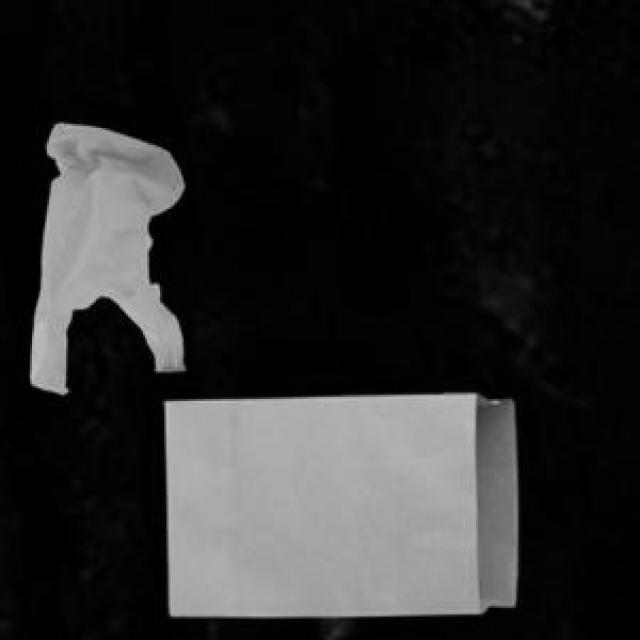paper: (162, 390, 514, 612)
